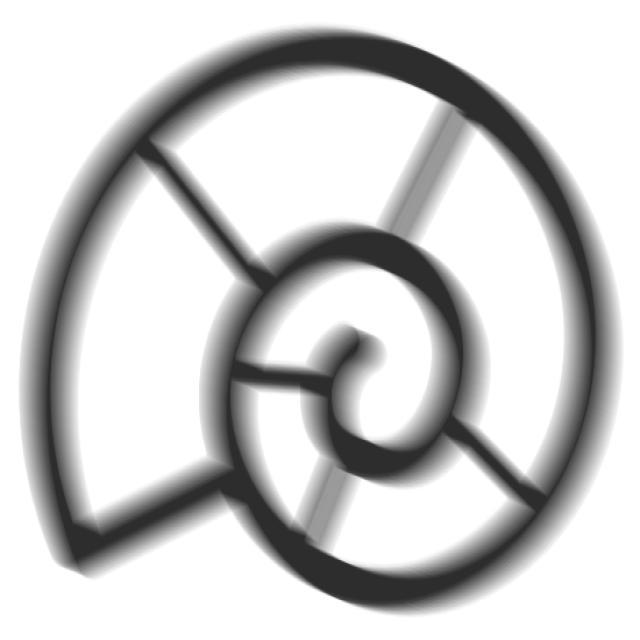fossil: (13, 18, 630, 628)
